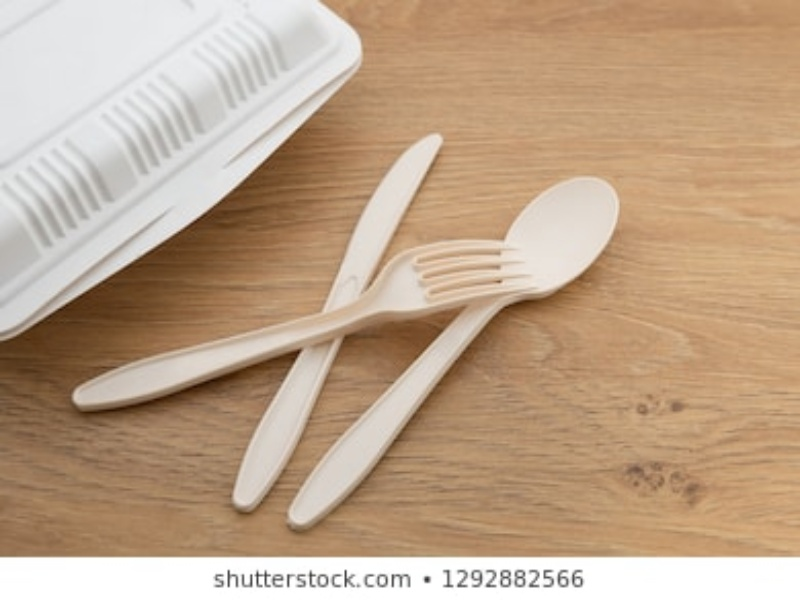plastic-silverware: (283, 173, 622, 528), (71, 237, 543, 415), (229, 134, 444, 516)
